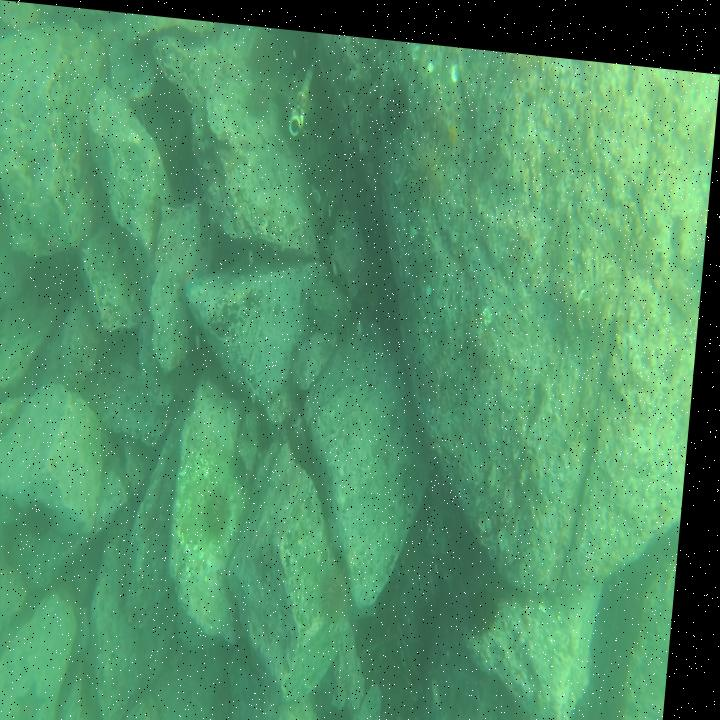echinus: (406, 128, 448, 204), (479, 574, 512, 629), (382, 74, 416, 127), (330, 549, 359, 611), (29, 499, 67, 545), (216, 484, 245, 533), (243, 74, 277, 113)
starfish: (23, 676, 60, 720), (442, 103, 468, 142)
